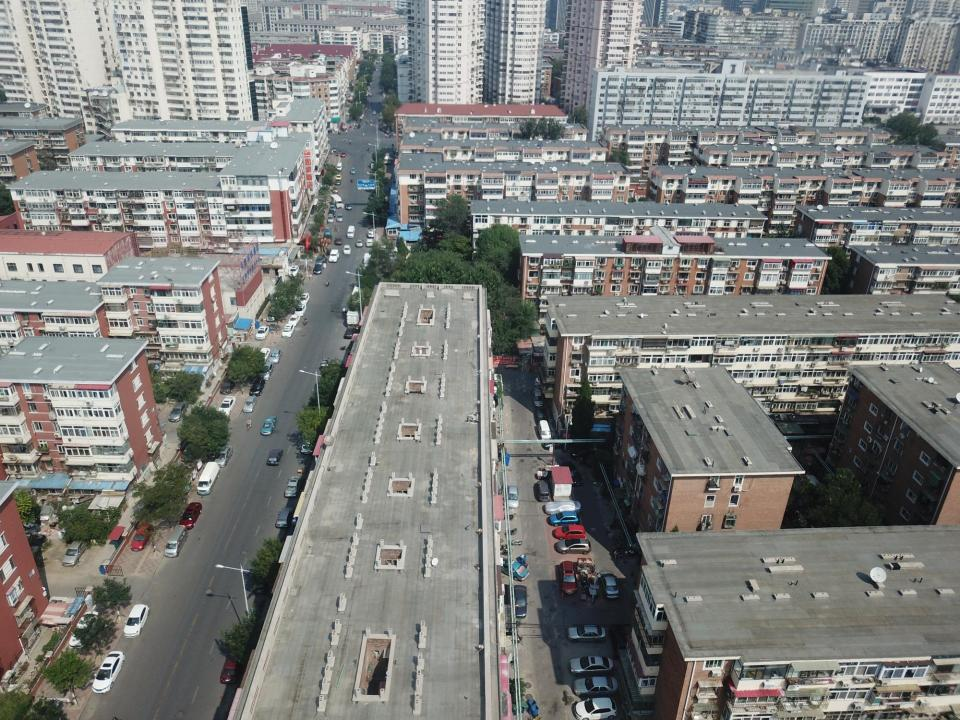car: (91, 650, 126, 693), (122, 602, 150, 642), (573, 697, 616, 719), (568, 655, 614, 674), (498, 555, 529, 582), (572, 676, 618, 694), (62, 536, 88, 567), (566, 625, 608, 643), (220, 651, 243, 683), (130, 520, 152, 552), (177, 502, 202, 530), (554, 537, 592, 555), (559, 461, 583, 487), (560, 560, 578, 594), (210, 444, 234, 468), (600, 569, 619, 599), (511, 584, 527, 618), (544, 500, 582, 514), (552, 524, 586, 539), (282, 474, 301, 499), (275, 506, 293, 530), (546, 511, 579, 524), (217, 395, 236, 417), (168, 400, 187, 422), (260, 414, 277, 437), (505, 484, 520, 509), (536, 480, 551, 503), (248, 377, 266, 396), (266, 447, 284, 465), (257, 361, 273, 381), (531, 388, 545, 408), (254, 324, 270, 341), (301, 435, 315, 454), (220, 376, 234, 394), (243, 395, 256, 414), (281, 323, 294, 338), (270, 348, 282, 364), (286, 313, 300, 325), (294, 302, 306, 315), (344, 326, 356, 339), (258, 347, 269, 361), (298, 291, 310, 303), (330, 250, 340, 262), (313, 264, 322, 276), (342, 244, 352, 254), (322, 227, 332, 237), (334, 236, 343, 245), (534, 377, 543, 386), (366, 239, 374, 248), (315, 254, 322, 264), (366, 229, 374, 237), (329, 204, 336, 213), (337, 214, 344, 222), (344, 203, 352, 210), (356, 240, 362, 248), (332, 185, 338, 193), (350, 167, 356, 173), (340, 151, 346, 157), (333, 145, 338, 152), (334, 179, 340, 184), (335, 174, 341, 179)
truck: (330, 194, 342, 209), (336, 161, 342, 171)
van: (195, 460, 221, 497), (165, 524, 188, 558), (536, 420, 551, 441), (346, 226, 354, 239), (327, 213, 333, 224)
